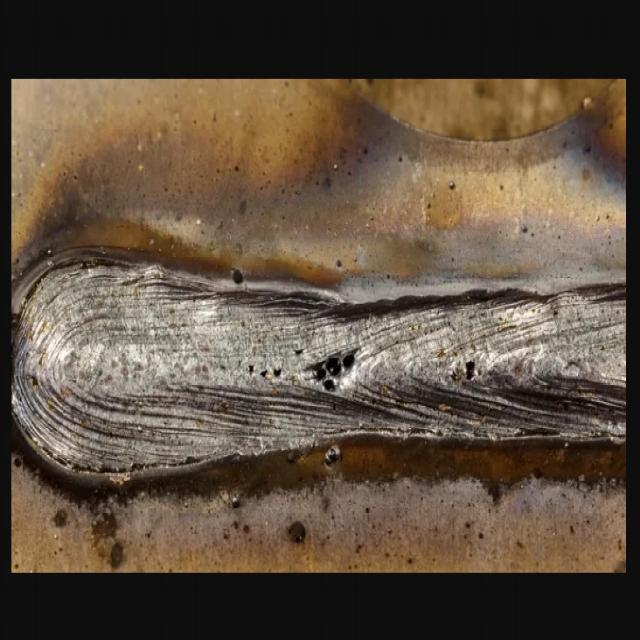Porosity: (300, 345, 361, 397), (245, 362, 285, 383), (462, 359, 484, 384), (231, 267, 245, 286), (293, 345, 305, 356)
